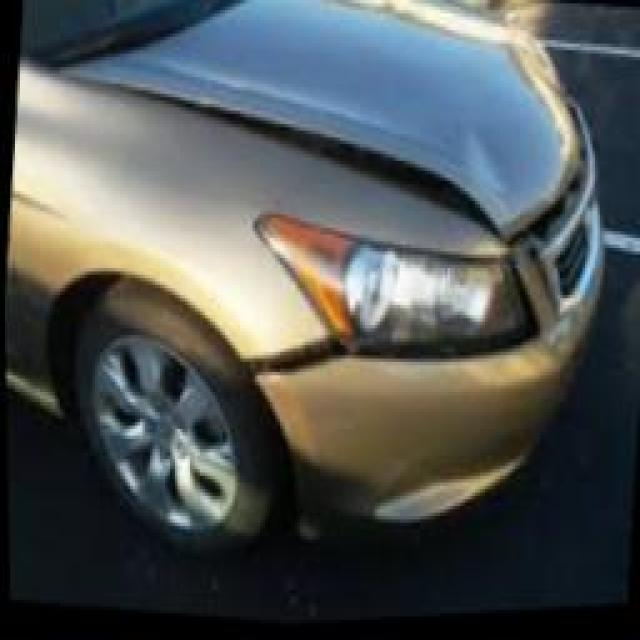Bonnet: (75, 0, 579, 251)
Bumper: (251, 109, 606, 545)
